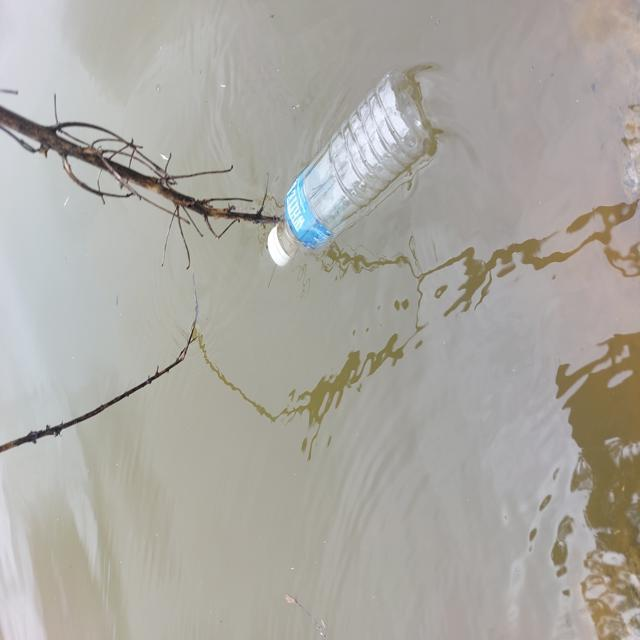waterbottle: (258, 67, 449, 270)
